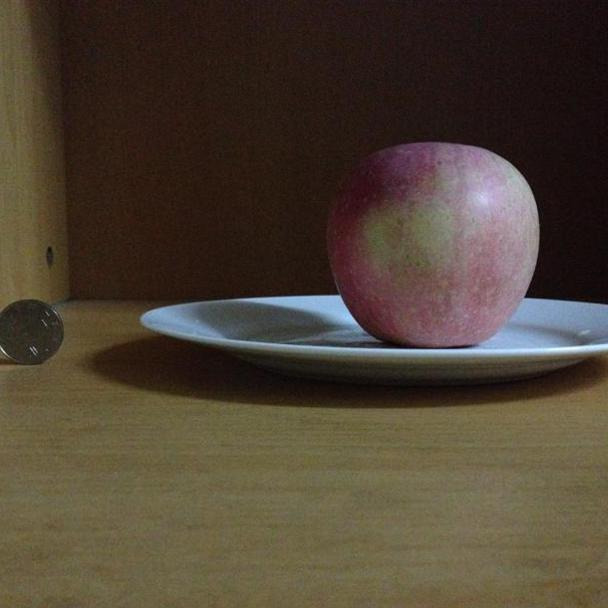apple: (325, 139, 541, 351)
